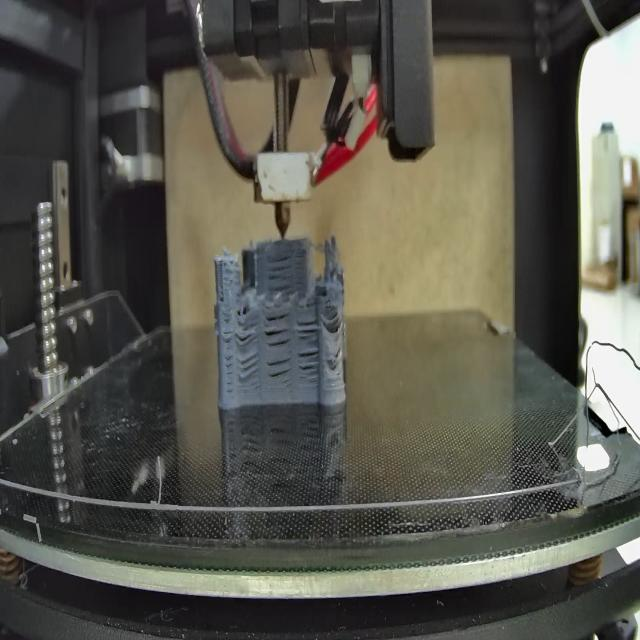cracks: (265, 248, 293, 294), (262, 311, 292, 346), (268, 354, 292, 390), (223, 324, 235, 394), (300, 346, 322, 382), (238, 354, 262, 385), (236, 316, 258, 348), (296, 311, 319, 341), (328, 308, 343, 331), (332, 340, 342, 362), (218, 286, 225, 308)
